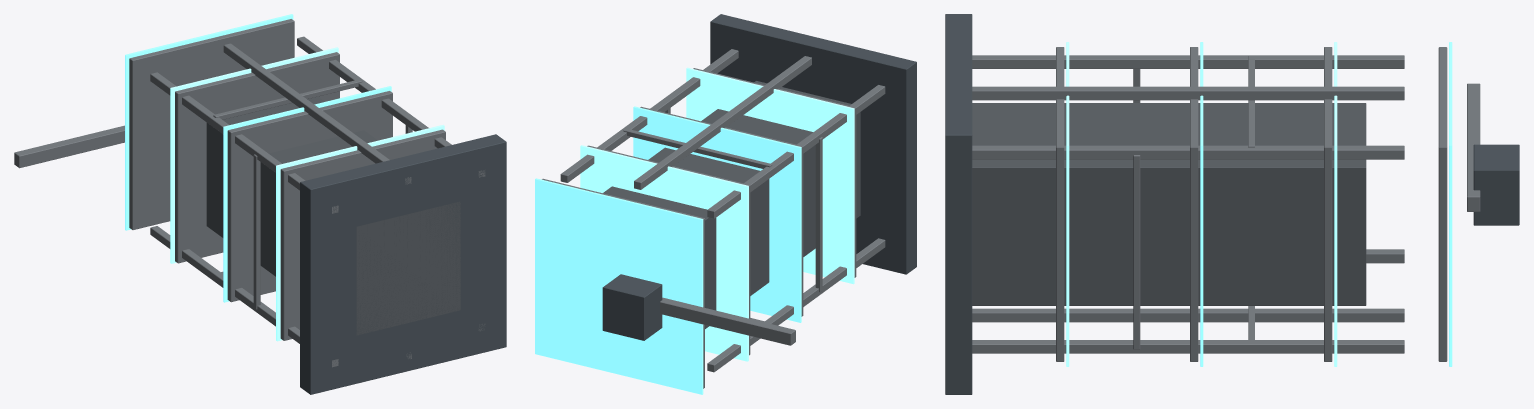
File: mass_scaffold_ring_yard_l.glb
3 views of the same model, side by side, from view 1: azimuth 30°, elevation 25°; view 2: azimuth 150°, elevation 25°; view 3: azimuth 270°, elevation 25° (orthographic). The views are drawn at different scales.
Parts seen in each view (by area): view 1: FlightKit_MassScaffold_yard_L; view 2: FlightKit_MassScaffold_yard_L; view 3: FlightKit_MassScaffold_yard_L.
Boxes of the visible parts, x1,y1,x2,y2 form: FlightKit_MassScaffold_yard_L: [14, 14, 506, 394]; FlightKit_MassScaffold_yard_L: [535, 14, 916, 394]; FlightKit_MassScaffold_yard_L: [945, 14, 1519, 394].
Bounding box in the file's own units: 10.75 × 7.5 × 15.
